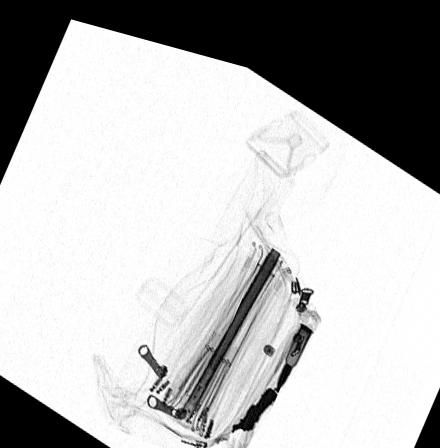Bullet: (276, 306, 313, 377)
Gun: (230, 370, 278, 420)
